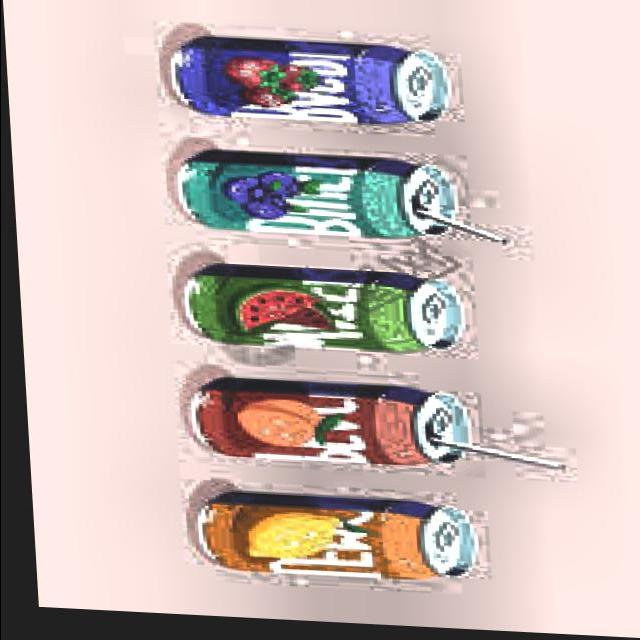litter: (152, 33, 463, 138), (178, 488, 478, 593), (168, 260, 472, 362), (171, 376, 476, 476), (162, 147, 460, 249)
